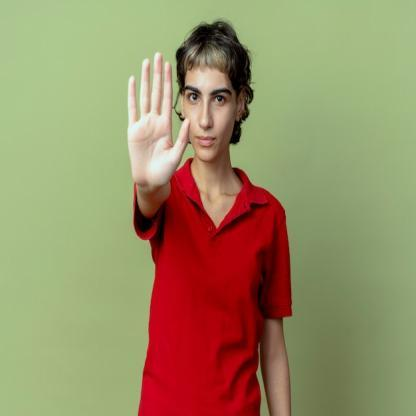stop: (127, 50, 192, 192)
